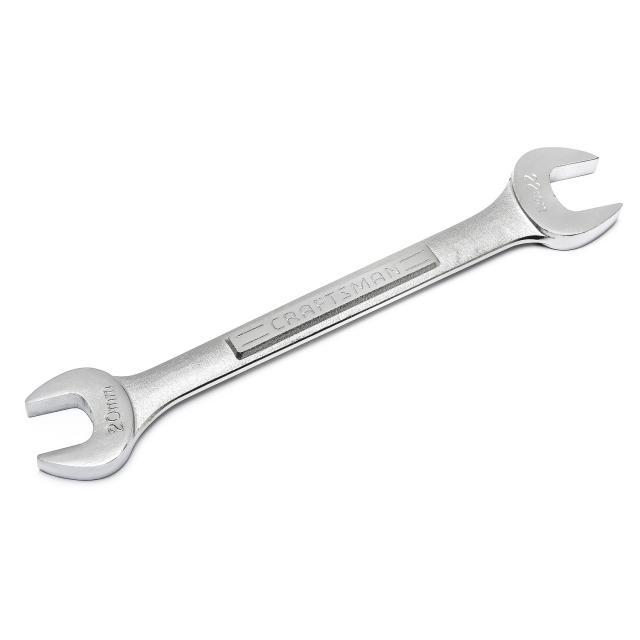wrench: (22, 142, 625, 484)
